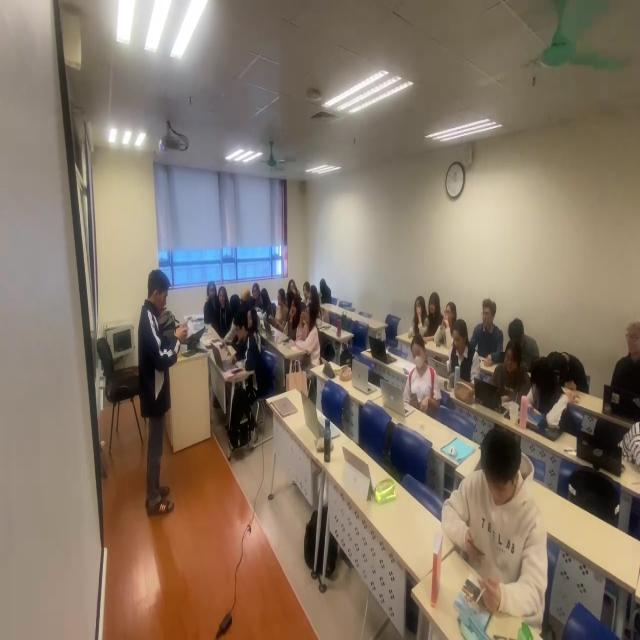raise_head: (608, 307, 640, 417), (474, 295, 501, 361), (297, 302, 322, 367), (436, 300, 460, 349), (287, 296, 302, 341), (217, 286, 231, 333), (429, 290, 442, 340), (249, 307, 263, 352), (412, 290, 423, 339), (251, 282, 262, 311), (301, 281, 312, 304)
sleep: (552, 347, 593, 399)
stand: (130, 254, 197, 529)
using_computer: (475, 342, 529, 422), (430, 314, 476, 397), (214, 310, 259, 379), (263, 287, 287, 335)
using_phone: (443, 415, 550, 632), (404, 329, 438, 414)
